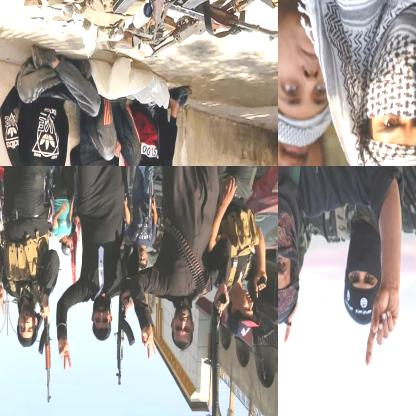rifle: (148, 0, 261, 60), (160, 0, 277, 47), (109, 0, 176, 48), (205, 295, 227, 415), (253, 287, 275, 379), (113, 290, 134, 386), (39, 309, 53, 404)
